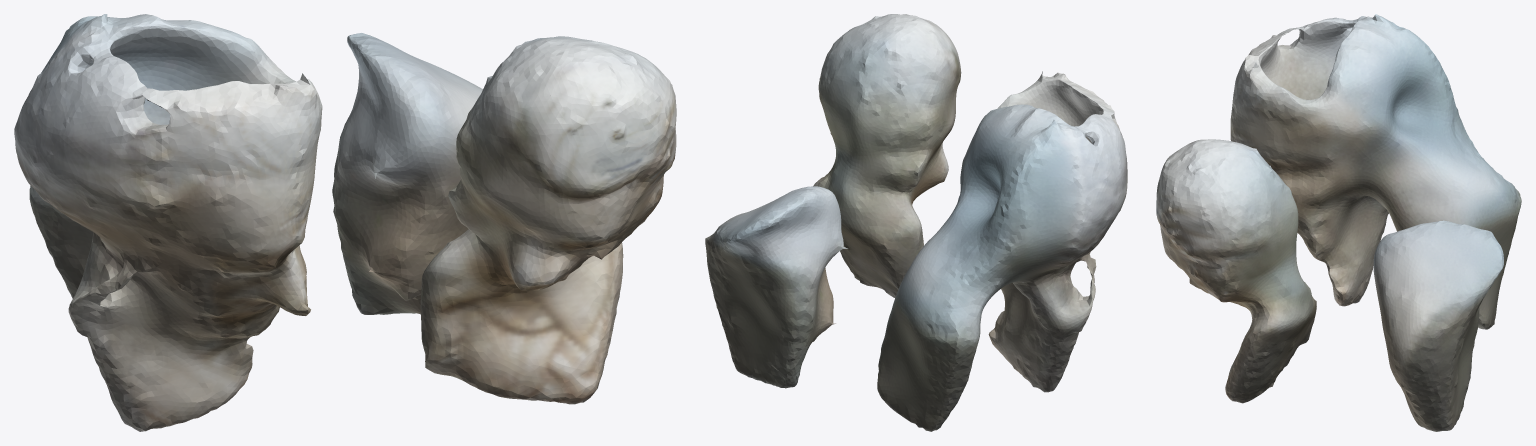
Rendered from IMG_SEG_42.glb.
The picture shows the model from 3 angles, left to right: view 1: azimuth 30°, elevation 25°; view 2: azimuth 150°, elevation 25°; view 3: azimuth 270°, elevation 25°; orthographic projection. The views are drawn at different scales.
Size of the model in its own units: 0.9903 by 0.7486 by 0.8678.
1 material, 1 textured.
